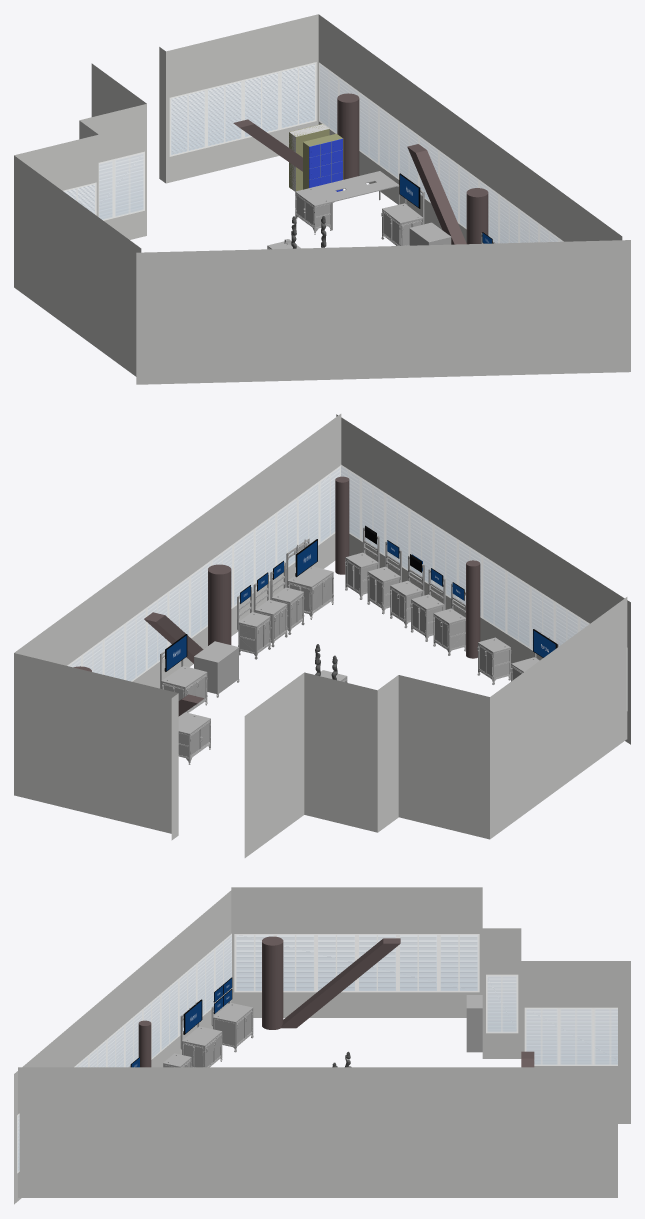
The model's file is fortiss-lab.glb.
The picture shows the model from 3 angles, top to bottom: view 1: azimuth 30°, elevation 25°; view 2: azimuth 150°, elevation 25°; view 3: azimuth 270°, elevation 25°; orthographic projection. The views are drawn at different scales.
Parts seen in each view (by area): view 1: Cube.008, Cube.007, Cube.002, Cube.001, window_2, window_1, Cube.004, big_column-1~Standard, Cube.006, window_4, big_column-3~Standard, Cube.003 (+9 smaller); view 2: Cube.001, Cube.007, Cube.002, Cube.008, Cube.006, window_2, window_8, Cube.004, Cube.003, Cube.005, big_column-1~Standard, fortiss_lab_mobility-1~Default.001 (+15 smaller); view 3: Cube.002, Cube.007, window_7, Cube.008, window_8, window_3, Cube.003, big_column-2~Standard, Cube.005, window_5, Cube, fortiss_lab_mobility-1~Default (+3 smaller).
Boxes of the visible parts, <box> form: Cube.008: <box>136,240,630,384</box>; Cube.007: <box>14,155,141,376</box>; Cube.002: <box>318,14,622,242</box>; Cube.001: <box>166,14,318,183</box>; window_2: <box>319,62,563,243</box>; window_1: <box>169,62,316,156</box>; Cube.004: <box>79,104,146,239</box>; big_column-1~Standard: <box>407,144,488,244</box>; Cube.006: <box>14,134,98,216</box>; window_4: <box>98,151,144,220</box>; big_column-3~Standard: <box>233,93,359,179</box>; Cube.003: <box>91,63,146,116</box>; Cube.001: <box>14,653,178,833</box>; Cube.007: <box>490,597,627,839</box>; Cube.002: <box>14,414,341,688</box>; Cube.008: <box>336,414,630,744</box>; Cube.006: <box>398,675,489,839</box>; window_2: <box>67,465,340,681</box>; window_8: <box>340,464,627,711</box>; Cube.004: <box>304,672,377,832</box>; Cube.003: <box>244,673,304,857</box>; Cube.005: <box>377,675,398,832</box>; big_column-1~Standard: <box>144,564,231,663</box>; fortiss_lab_mobility-1~Default.001: <box>286,538,333,619</box>; Cube.002: <box>18,1067,617,1197</box>; Cube.007: <box>231,887,482,1017</box>; window_7: <box>234,934,479,992</box>; Cube.008: <box>14,890,231,1204</box>; window_8: <box>17,933,231,1173</box>; window_3: <box>524,1007,617,1065</box>; Cube.003: <box>521,961,630,1067</box>; big_column-2~Standard: <box>262,936,400,1029</box>; Cube.005: <box>482,928,521,1058</box>; window_5: <box>486,974,518,1033</box>; Cube: <box>618,993,630,1123</box>; fortiss_lab_mobility-1~Default: <box>180,1002,222,1067</box>.
Bounding box in the file's own units: 81.52 × 27.55 × 115.
Materials: 9 (2 with a texture image).
